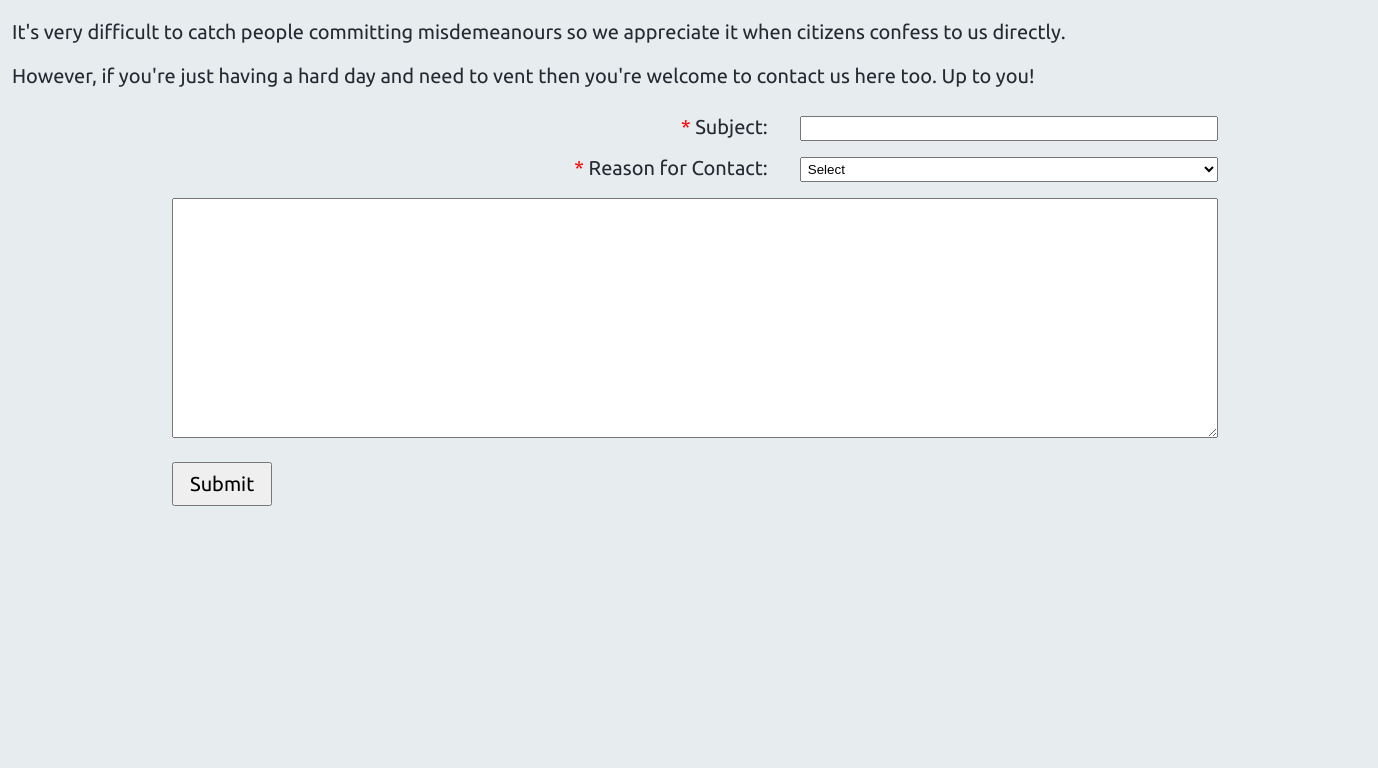
it: <Confession> › Given all data is valid and a misdemeanour is selected,         When submit button is pressed,         then confession success message is shown
This screenshot has width=1378, height=768.
Type "Been naughty" into the field labelled "Subject:" at {"x": 1009, "y": 128}, box [800,116,1218,141]
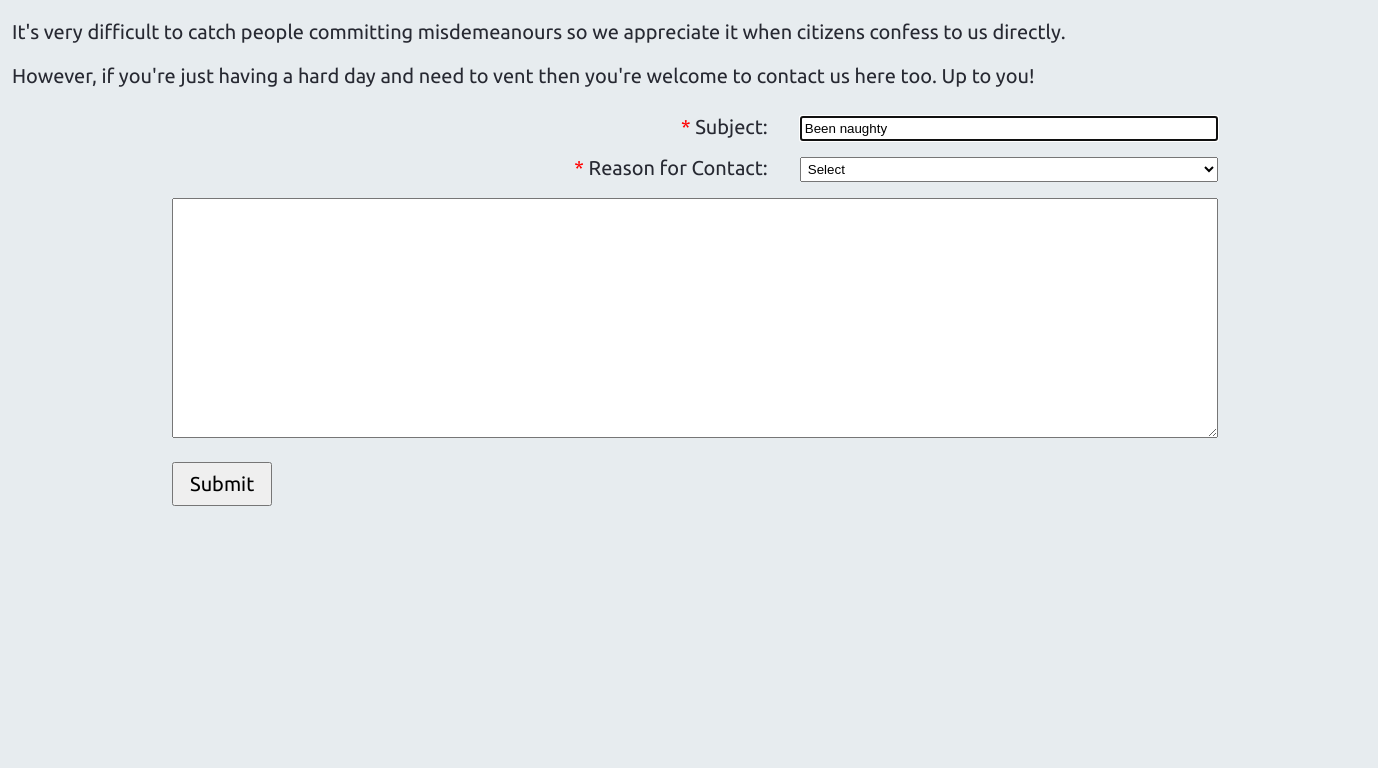
Select "Mild Public Rudeness 🤪" in the dropdown labelled "Reason for Contact:" at {"x": 1009, "y": 170}, box [800,157,1218,182]
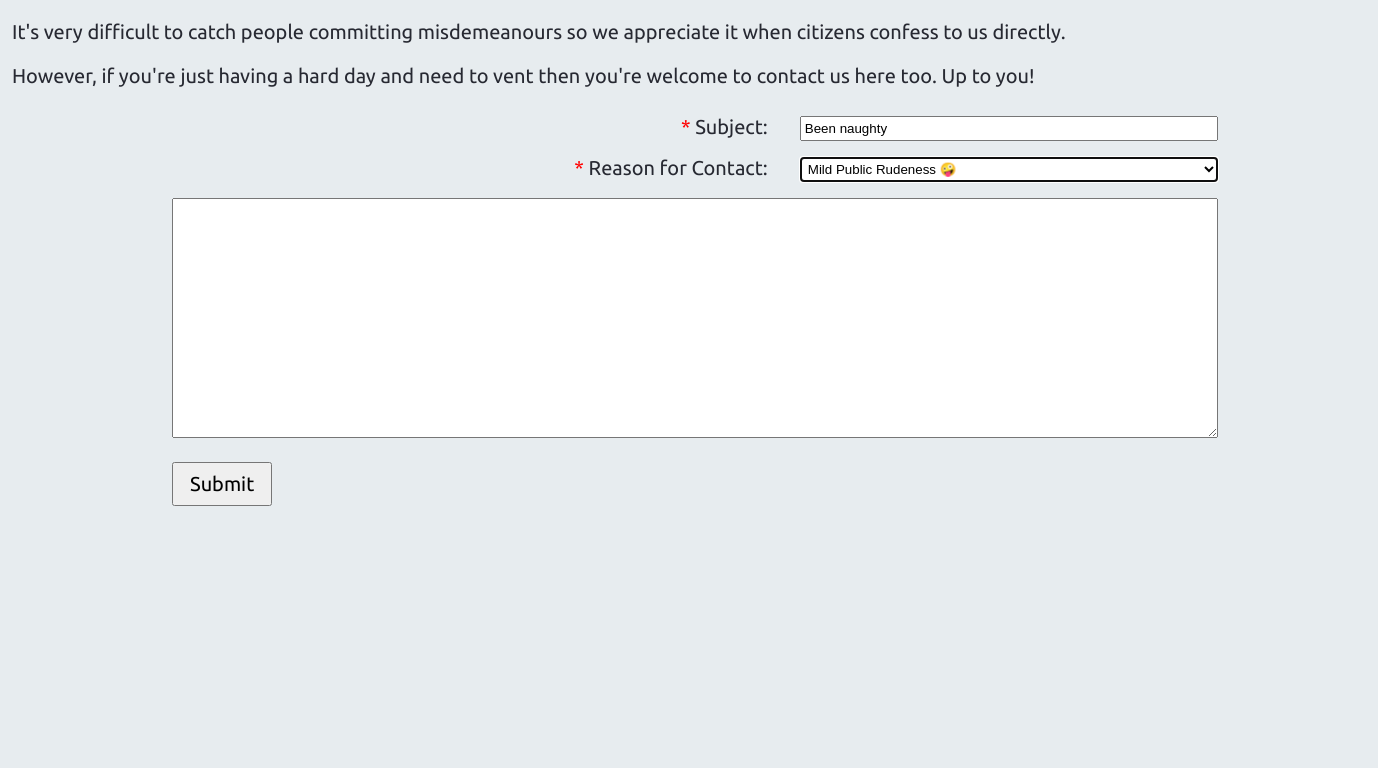
Type "Yep, called a donkey an ass." into the text box named "confession detail" at {"x": 695, "y": 318}, box [172,198,1218,438]
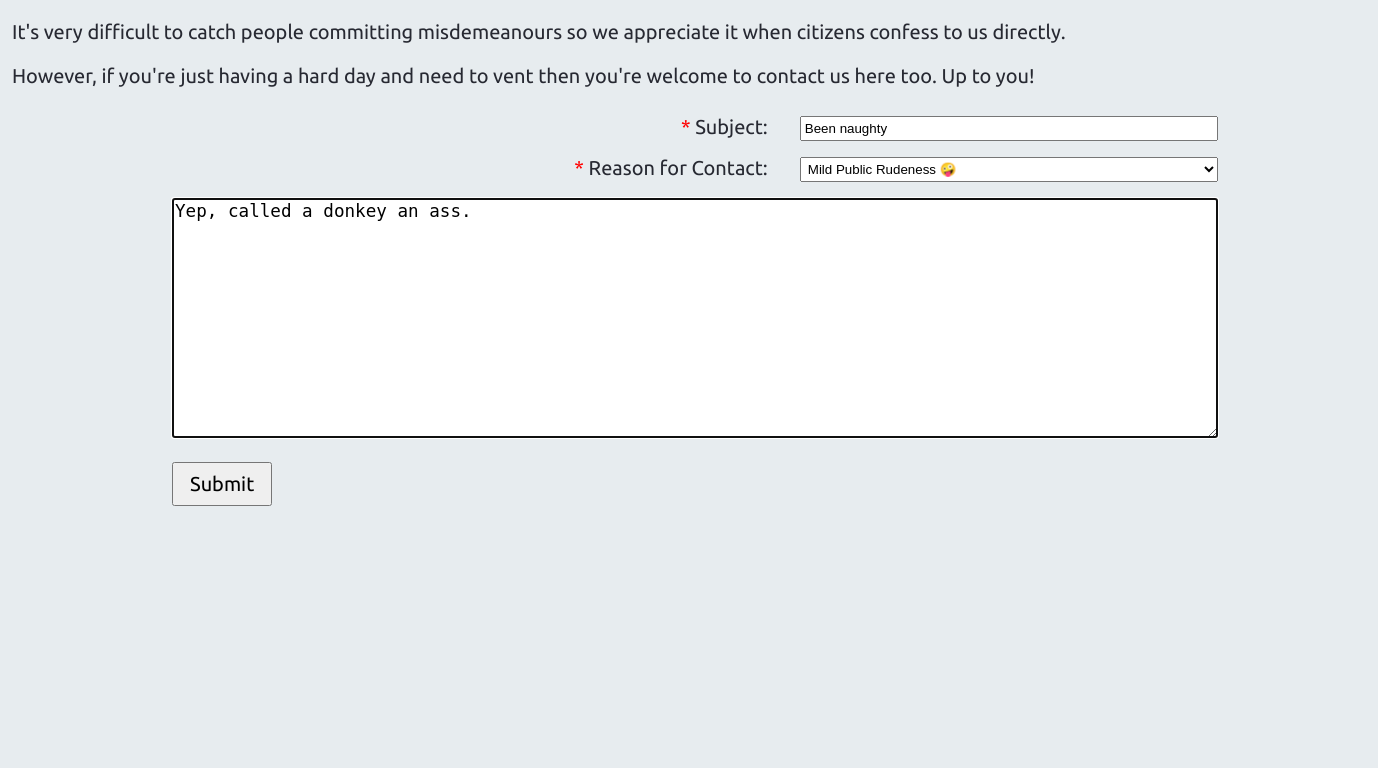
Click the button labelled "Submit" at {"x": 222, "y": 484}, box [172,462,272,506]
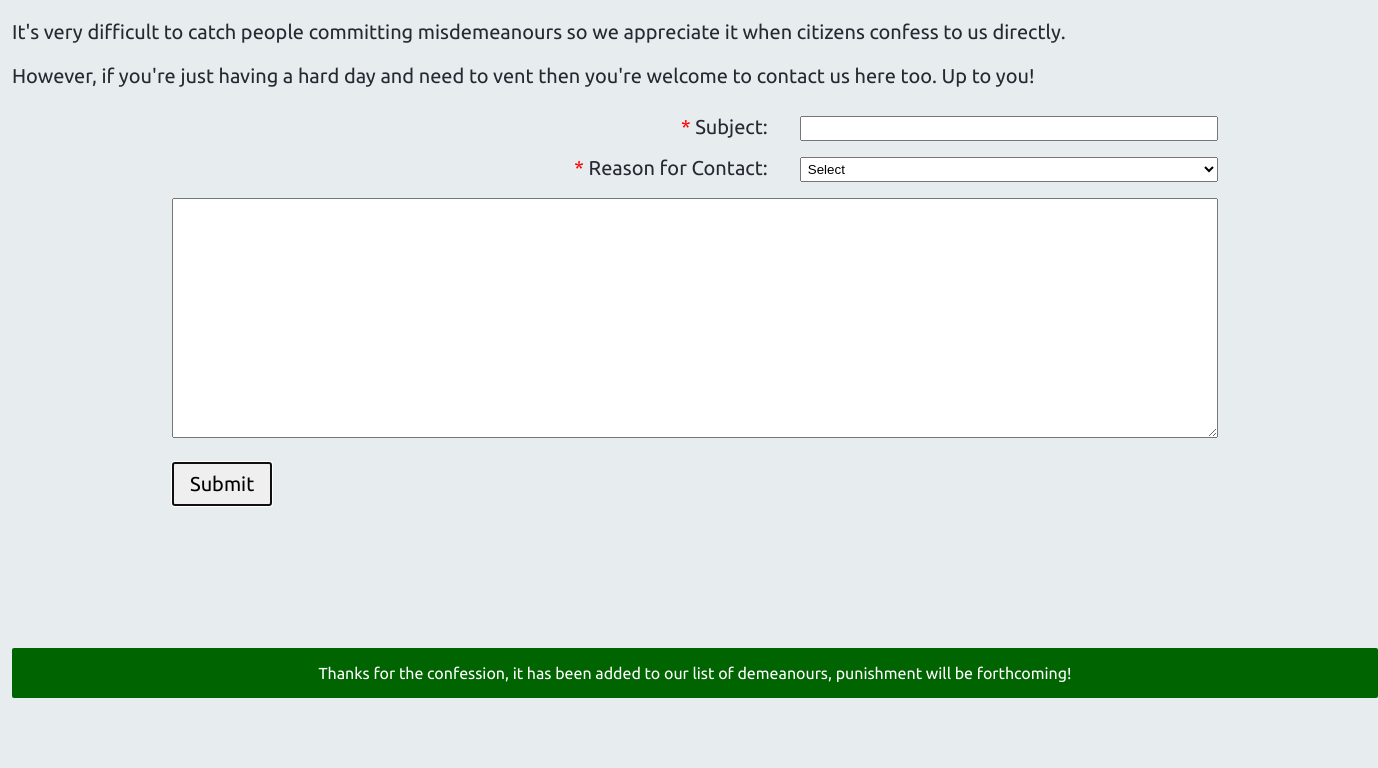
Expected: the field labelled "Subject:" is empty, [800,116,1218,141]
Expected: the text box named "confession detail" is empty, [172,198,1218,438]
Expected: the text "Thanks for the confession" is shown, [318,664,1072,682]
